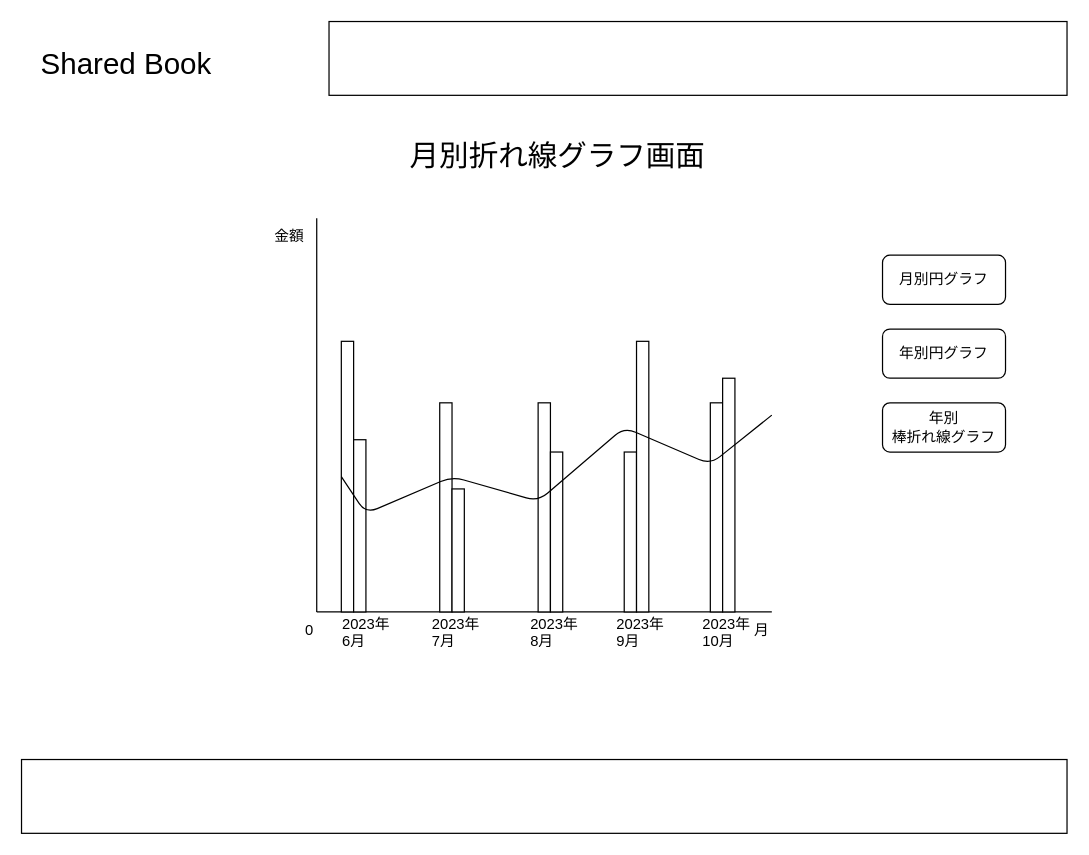
Some shapes in this 1089 by 855 pixel diagram are drawn without their labels. Here are the shapes that lost their labels. From the top down, the box of each, then its label:
(328, 20, 1067, 95): 収入支出一覧 項目一覧 カレンダー一覧 月別グラフ 割勘一覧 アカウント ログアウト
(20, 758, 1067, 833): @ 2024 Shared Book ALL RIGHTS RESERVED.
